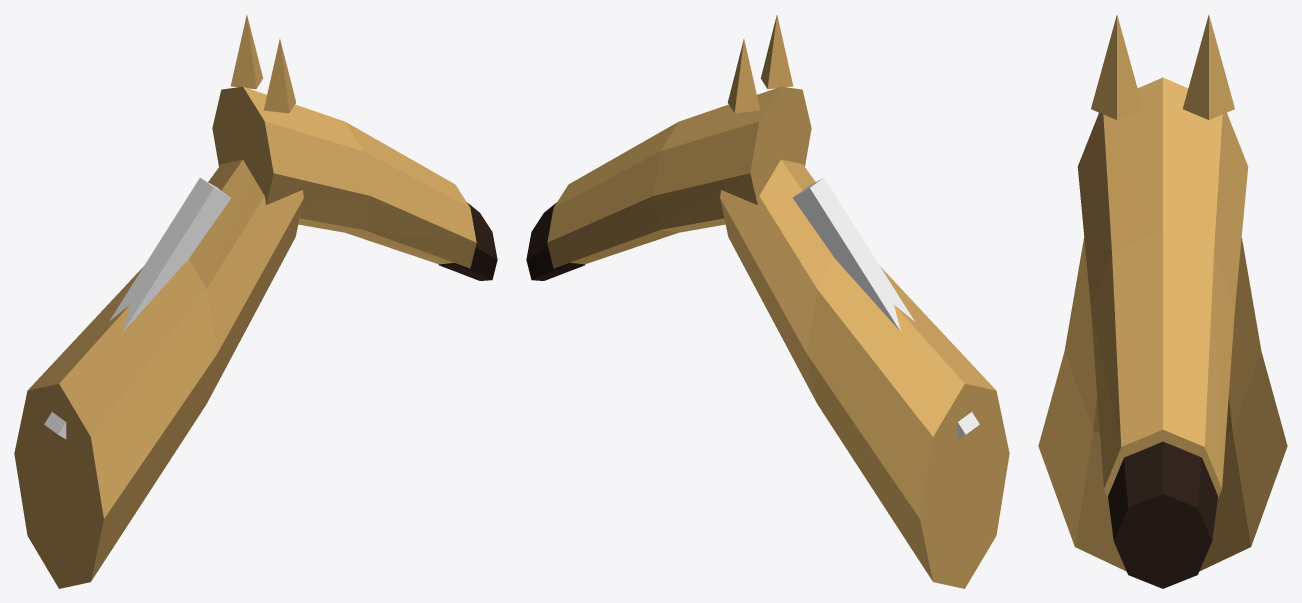
The model's file is carreta_head_bayo.obj.
3 renders of one model, left to right at view 1: azimuth 30°, elevation 25°; view 2: azimuth 150°, elevation 25°; view 3: azimuth 270°, elevation 25°, orthographic. The views are drawn at different scales.
Parts seen in each view (by area): view 1: carreta_head_bayo; view 2: carreta_head_bayo; view 3: carreta_head_bayo.
Boxes of the visible parts, x1,y1,x2,y2 form: carreta_head_bayo: (14,14,497,588); carreta_head_bayo: (526,14,1009,588); carreta_head_bayo: (1038,14,1287,588).
Size of the model in its own units: 1.03 by 1.18 by 0.3724.
